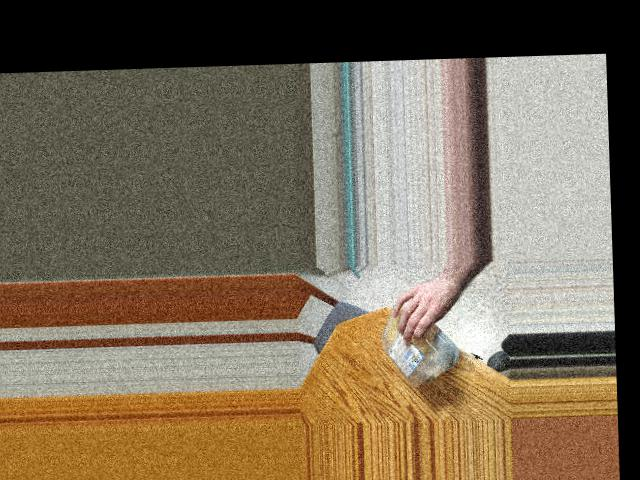cheese: (380, 293, 457, 387)
